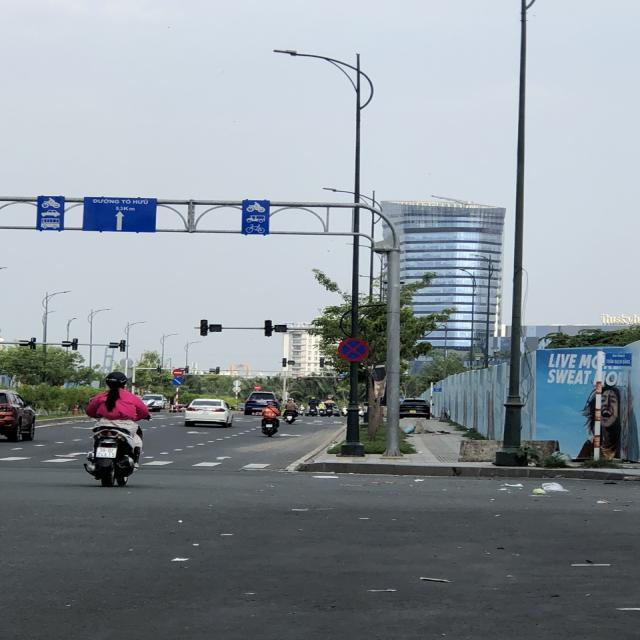Bien bao cam dung xe va do xe: (333, 336, 374, 364)
